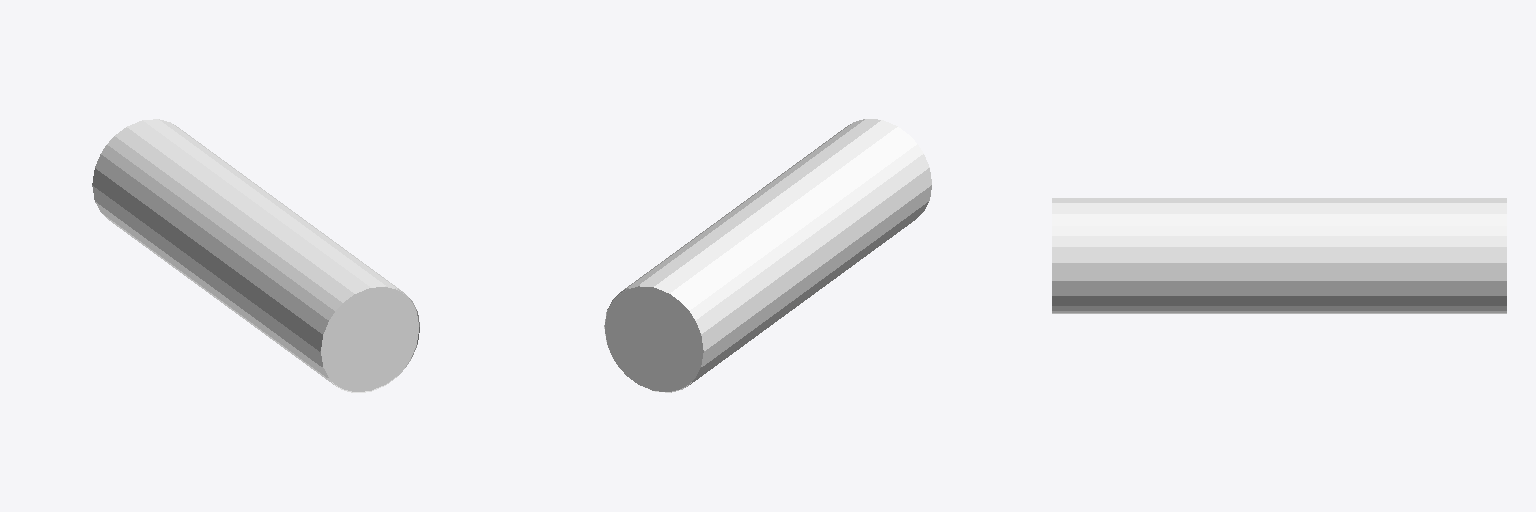
File: impulsecannon.obj
3 renders of one model, left to right at view 1: azimuth 30°, elevation 25°; view 2: azimuth 150°, elevation 25°; view 3: azimuth 270°, elevation 25°, orthographic.
Visible parts, largest first — view 1: Impulsecannon4, Impulsecannon2, Impulsecannon1; view 2: Impulsecannon4, Impulsecannon2, Impulsecannon6; view 3: Impulsecannon3, Impulsecannon2, Impulsecannon5.
Boxes of the visible parts, x1,y1,x2,y2 form: Impulsecannon4: [92, 145, 333, 384]; Impulsecannon2: [107, 119, 402, 310]; Impulsecannon1: [320, 286, 418, 391]; Impulsecannon4: [690, 144, 931, 384]; Impulsecannon2: [621, 119, 916, 309]; Impulsecannon6: [605, 287, 702, 391]; Impulsecannon3: [1052, 236, 1506, 310]; Impulsecannon2: [1052, 198, 1506, 235]; Impulsecannon5: [1052, 311, 1506, 313].
Size of the model in its own units: 2.04 by 2.04 by 8.02.